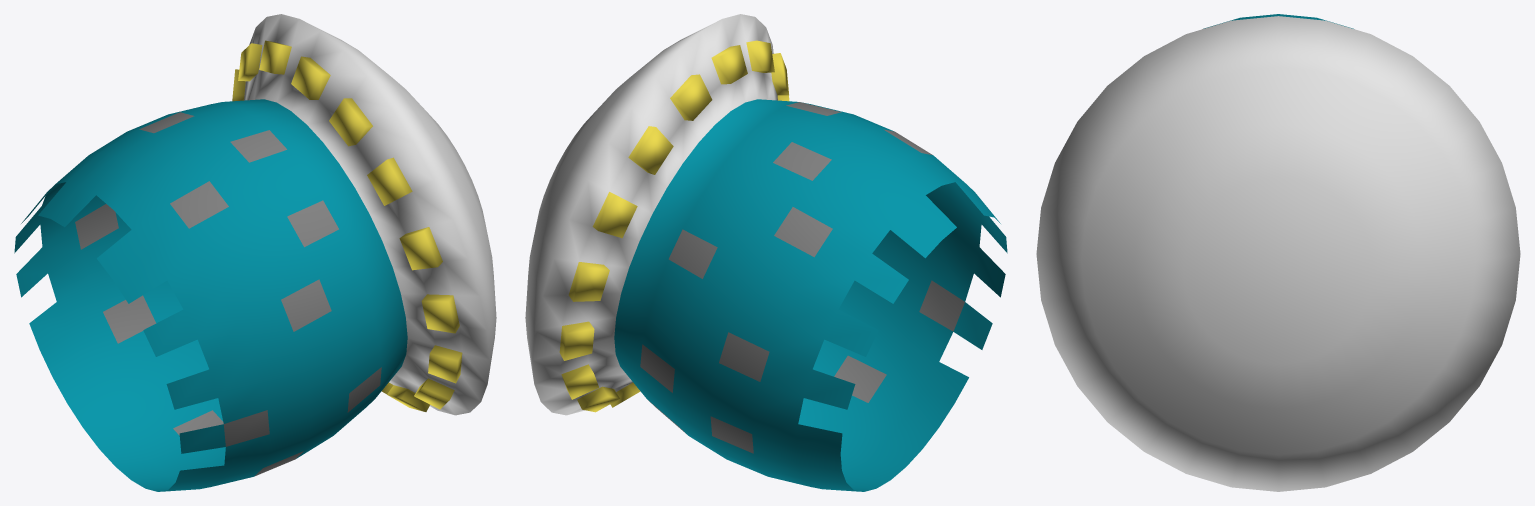
File: SpaceShipNew002.fbx
The picture shows the model from 3 angles, left to right: view 1: azimuth 30°, elevation 25°; view 2: azimuth 150°, elevation 25°; view 3: azimuth 270°, elevation 25°; orthographic projection. The views are drawn at different scales.
Visible parts, largest first — view 1: Sphere.001; view 2: Sphere.001; view 3: Sphere.001.
Boxes of the visible parts, box(x1,y1,x2,y2) form: Sphere.001: box(14, 14, 496, 491); Sphere.001: box(525, 14, 1007, 491); Sphere.001: box(1036, 14, 1520, 491).
Bounding box in the file's own units: 246 × 241 × 244.
